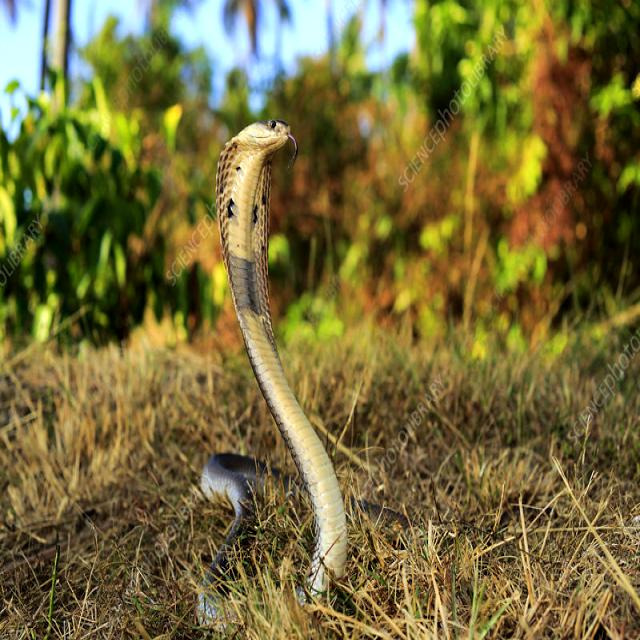Naja kaouthia: (216, 121, 347, 591)
snake: (216, 121, 347, 591)
